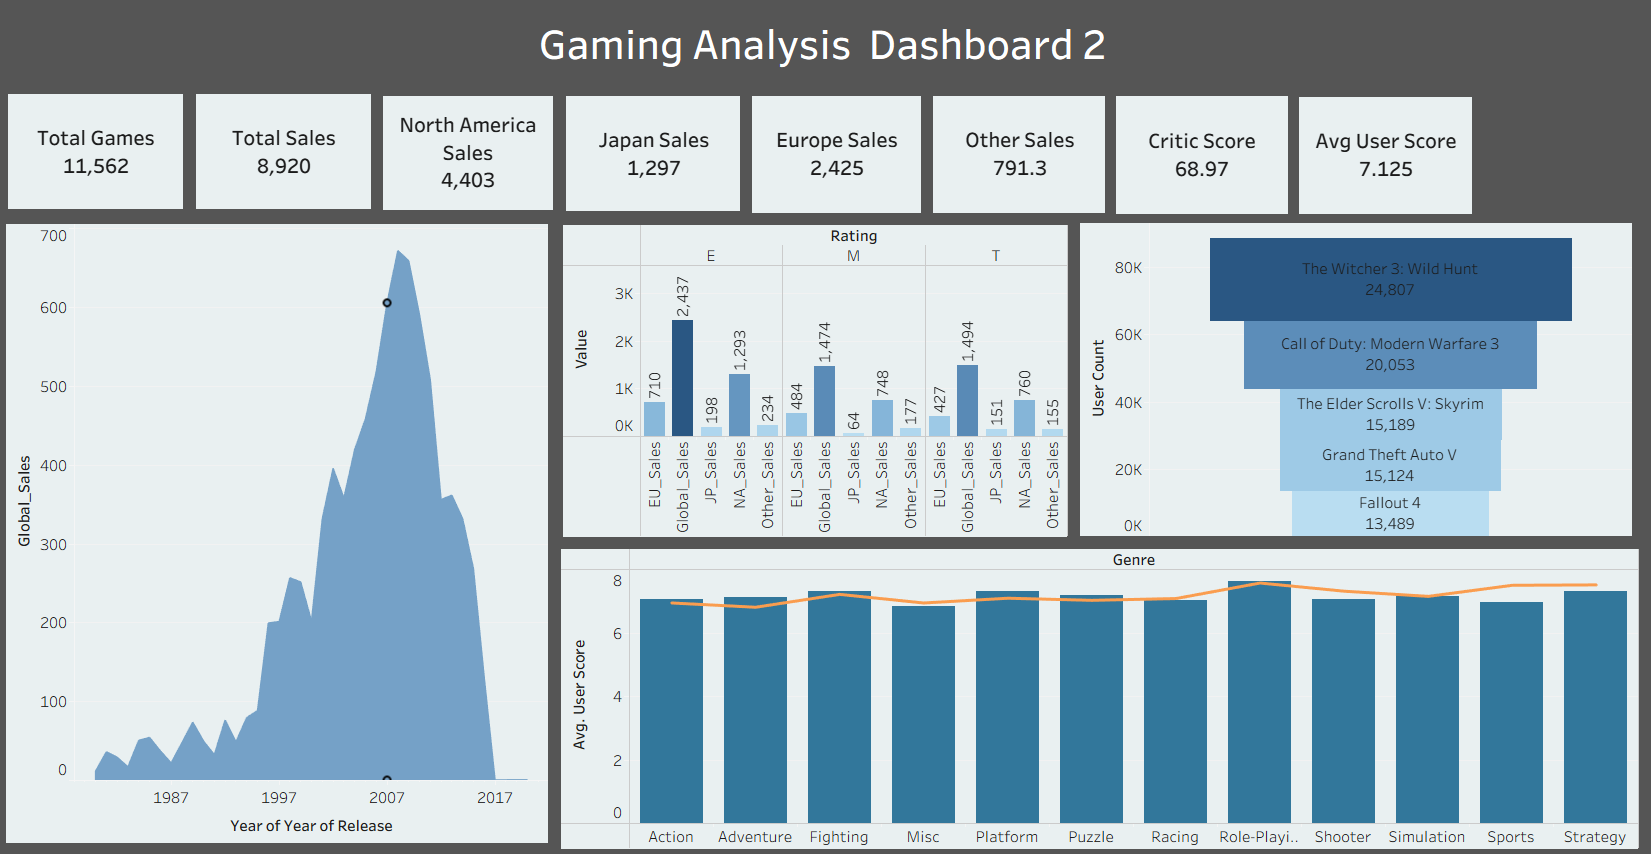

Layout of this report page (visuals, bound fields, positions):
{"tool":"tableau","page":{"name":"Dashboard 1 (2)","canvas":[1000,1000],"units":"permille","ordinal":1},"visuals":[{"type":"title","box":[4.8,9.3,990.3,91.8]},{"type":"worksheet","title":"Total games","mark":"Automatic","box":[8.2,115,106,133.6]},{"type":"worksheet","title":"Total sales","mark":"Automatic","box":[121.9,115,105.5,133.6]},{"type":"worksheet","title":"NA sales","mark":"Automatic","box":[234.9,117.3,102.5,132.4]},{"type":"worksheet","title":"Japan sales","mark":"Automatic","box":[345.1,117.3,105.5,133.6]},{"type":"worksheet","title":"Europe sales","mark":"Automatic","box":[457.5,117.3,101.9,135.9]},{"type":"worksheet","title":"Other sales","mark":"Automatic","box":[566.5,117.3,104.3,135.9]},{"type":"worksheet","title":"Avg critic score","mark":"Automatic","box":[677.2,117.3,103.7,137.1]},{"type":"worksheet","title":"avg user scoe","mark":"Automatic","box":[787.4,118.5,104.9,135.9]},{"type":"worksheet","title":"Top 10 games by user count","mark":"Automatic","rows":["User_Count"],"box":[655.4,264.8,333.1,363.5]},{"type":"worksheet","title":"global sales over time","mark":"Area","rows":["Global_Sales"],"cols":["Year_of_Release"],"box":[7,266,327.5,718.9]},{"type":"worksheet","title":"Age rating vs sales","mark":"Automatic","cols":["Rating"],"box":[343.3,267.1,304.6,362.4]},{"type":"worksheet","title":"genre vs avg user score and critic score","mark":"Automatic","rows":["User_Score","Critic_Score"],"cols":["Genre"],"box":[342.1,643.4,650.9,348.4]}]}

Visuals, with their boxes on the dashboard's canvas, which has no fixed pixel size, in thousandths of its width and height (x1, y1, x2, y2). These are canvas units, not pixel positions in the 1651x854 screenshot, which may show the page scaled, cropped or inside an application window:
title: x1=5, y1=9, x2=995, y2=101
"Total games" worksheet: x1=8, y1=115, x2=114, y2=249
"Total sales" worksheet: x1=122, y1=115, x2=227, y2=249
"NA sales" worksheet: x1=235, y1=117, x2=337, y2=250
"Japan sales" worksheet: x1=345, y1=117, x2=451, y2=251
"Europe sales" worksheet: x1=458, y1=117, x2=559, y2=253
"Other sales" worksheet: x1=566, y1=117, x2=671, y2=253
"Avg critic score" worksheet: x1=677, y1=117, x2=781, y2=254
"avg user scoe" worksheet: x1=787, y1=118, x2=892, y2=254
"Top 10 games by user count" worksheet: x1=655, y1=265, x2=988, y2=628
"global sales over time" worksheet (Area marks): x1=7, y1=266, x2=334, y2=985
"Age rating vs sales" worksheet: x1=343, y1=267, x2=648, y2=630
"genre vs avg user score and critic score" worksheet: x1=342, y1=643, x2=993, y2=992
